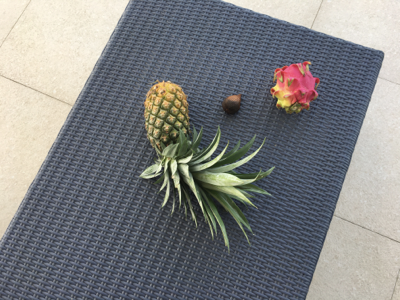dragon fruit: (272, 62, 320, 115)
pineapple: (139, 82, 276, 251)
snake fruit: (222, 93, 244, 114)
